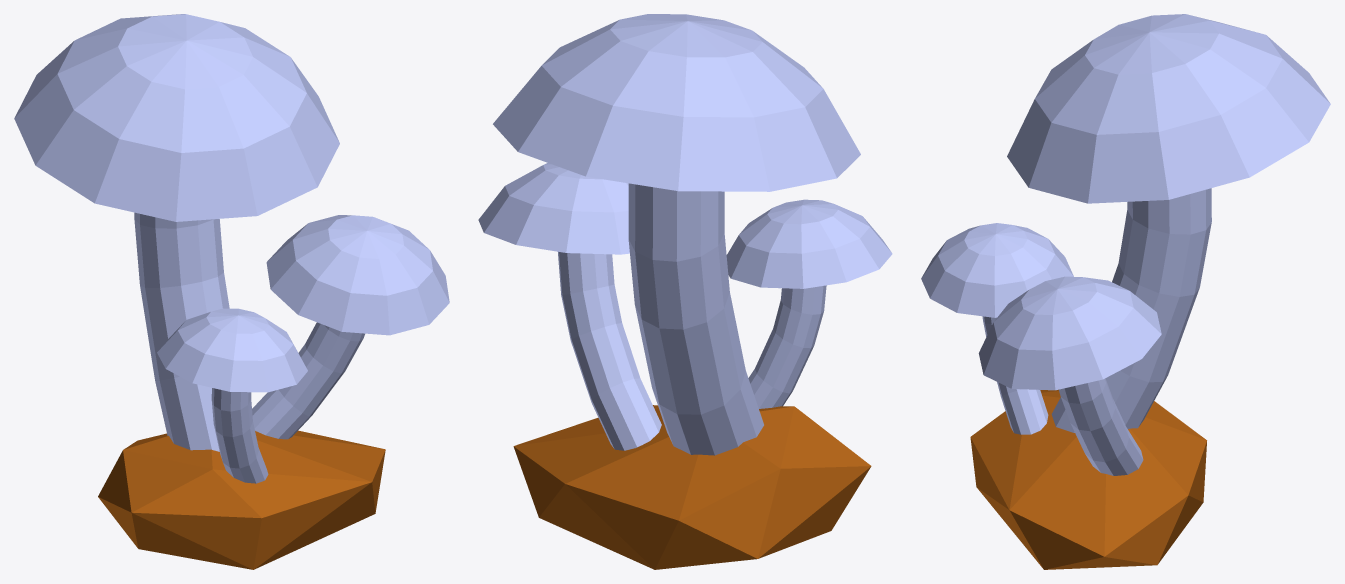
File: sviticí_houby.fbx
3 views of the same model, side by side, from view 1: azimuth 30°, elevation 25°; view 2: azimuth 150°, elevation 25°; view 3: azimuth 270°, elevation 25° (orthographic). The views are drawn at different scales.
Parts seen in each view (by area): view 1: svitici_houby; view 2: svitici_houby; view 3: svitici_houby.
Boxes of the visible parts, x1,y1,x2,y2 form: svitici_houby: (14, 14, 449, 569); svitici_houby: (478, 14, 892, 569); svitici_houby: (921, 14, 1330, 569).
Size of the model in its own units: 23.07 by 30.43 by 23.01.
